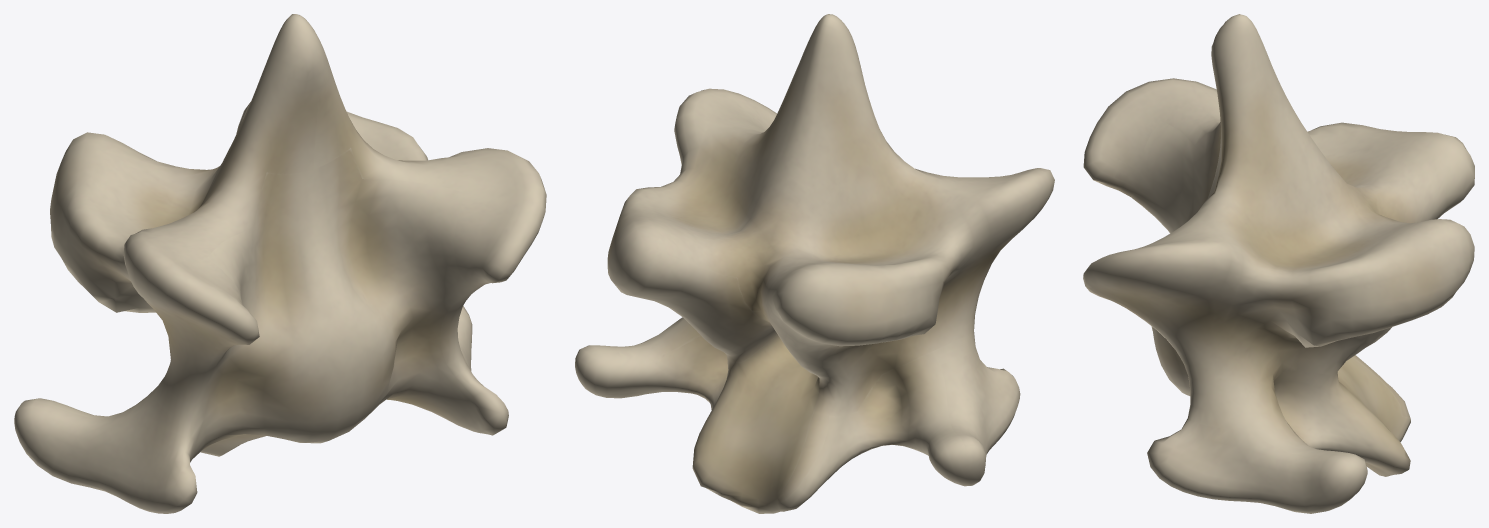
Rendered from vertebra cervicalis 7.fbx.
3 renders of one model, left to right at view 1: azimuth 30°, elevation 25°; view 2: azimuth 150°, elevation 25°; view 3: azimuth 270°, elevation 25°, orthographic. The views are drawn at different scales.
Parts seen in each view (by area): view 1: vertebra cervicalis 7; view 2: vertebra cervicalis 7; view 3: vertebra cervicalis 7.
Part boxes in pixels (<box>): vertebra cervicalis 7: <box>14,14,546,513</box>; vertebra cervicalis 7: <box>575,14,1054,513</box>; vertebra cervicalis 7: <box>1083,14,1474,513</box>.
Bounding box in the file's own units: 8.92 × 9.41 × 7.3.
1 material, 1 textured.
